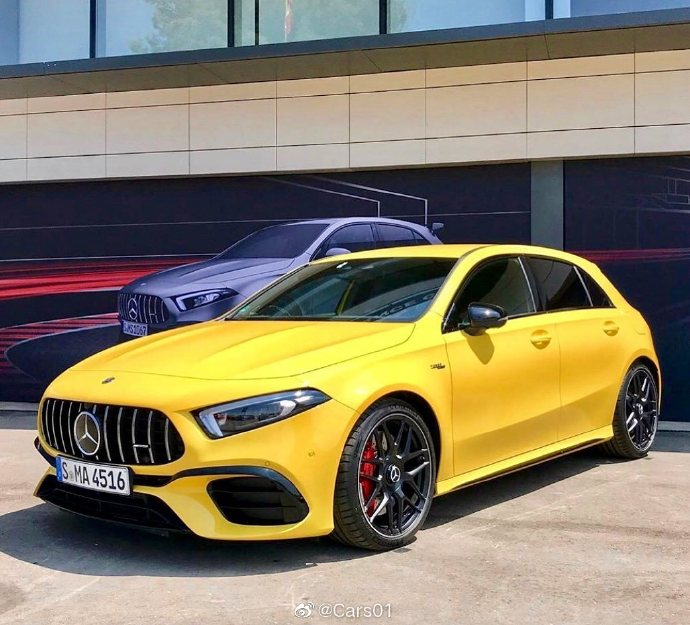other: (35, 235, 672, 546), (113, 214, 444, 333)
